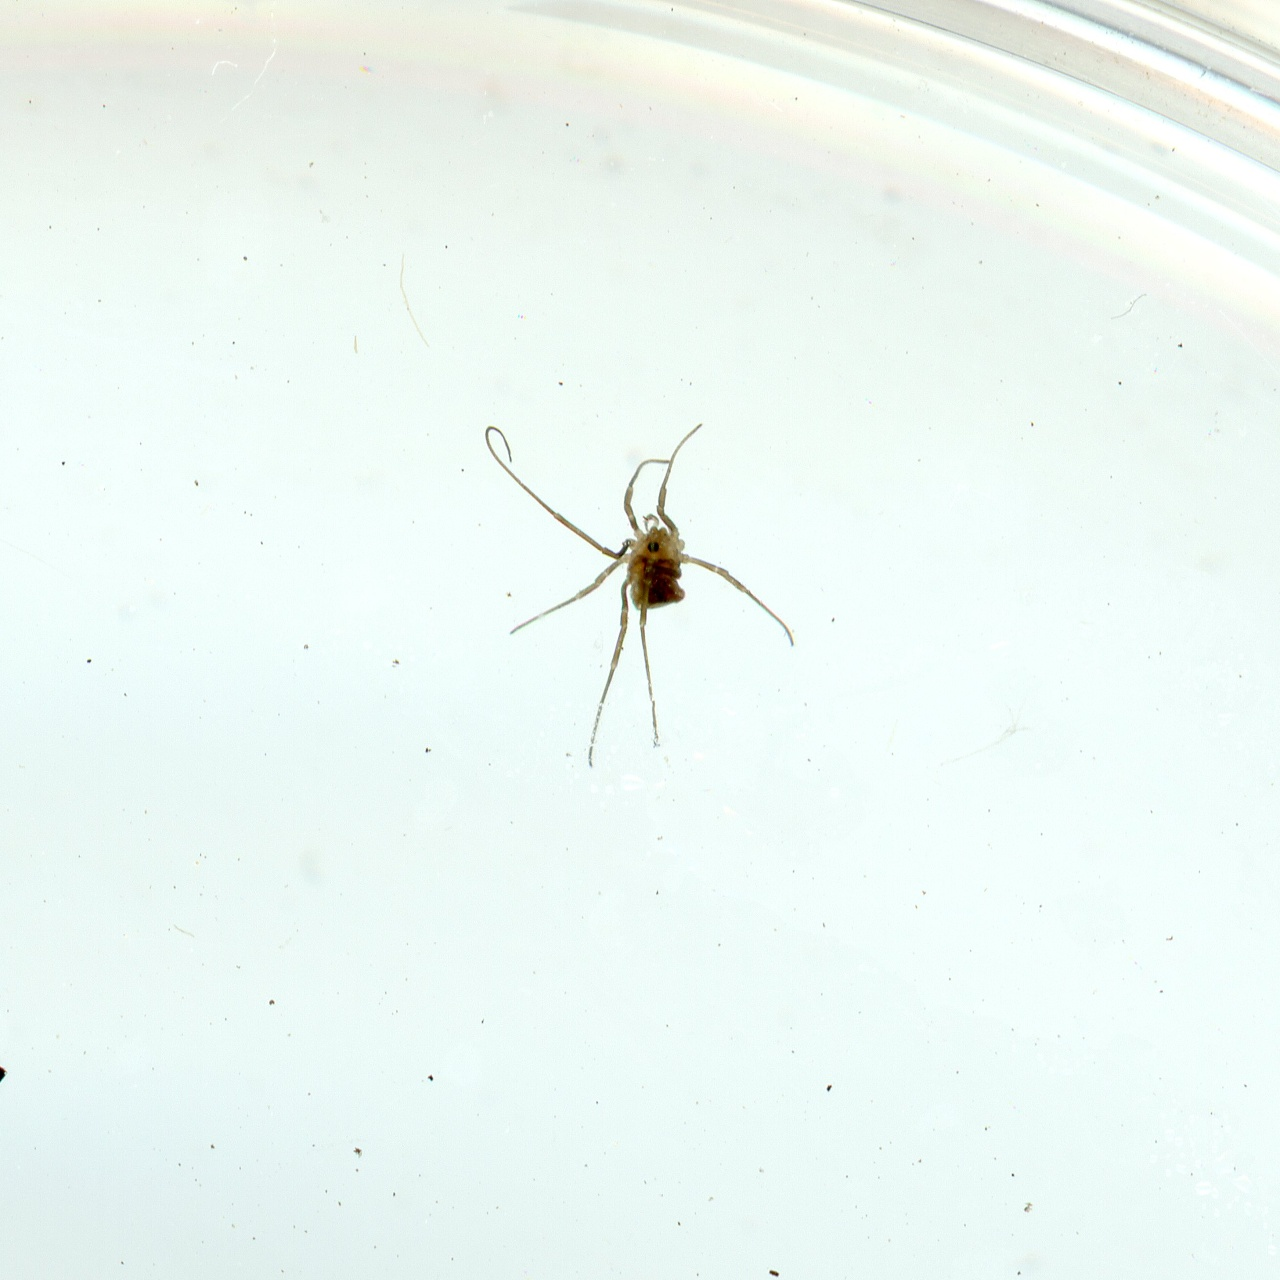arthropod: (473, 419, 802, 774)
